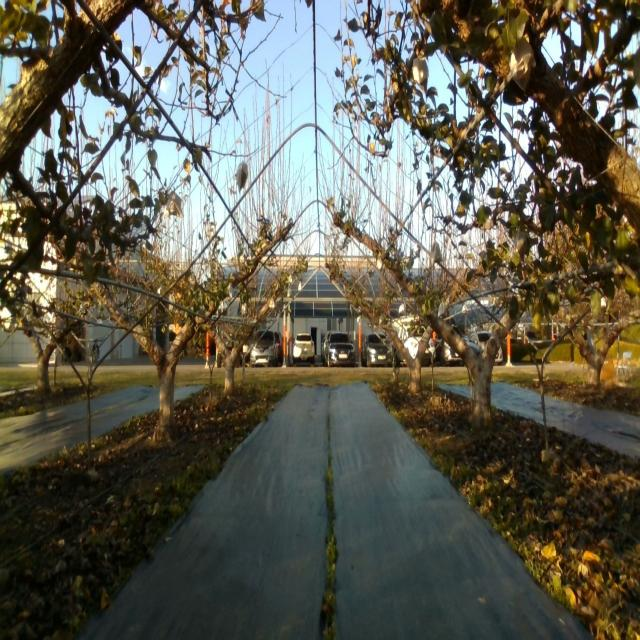pearbags: (412, 57, 429, 95), (164, 190, 183, 217), (237, 161, 248, 192), (430, 242, 442, 264)
